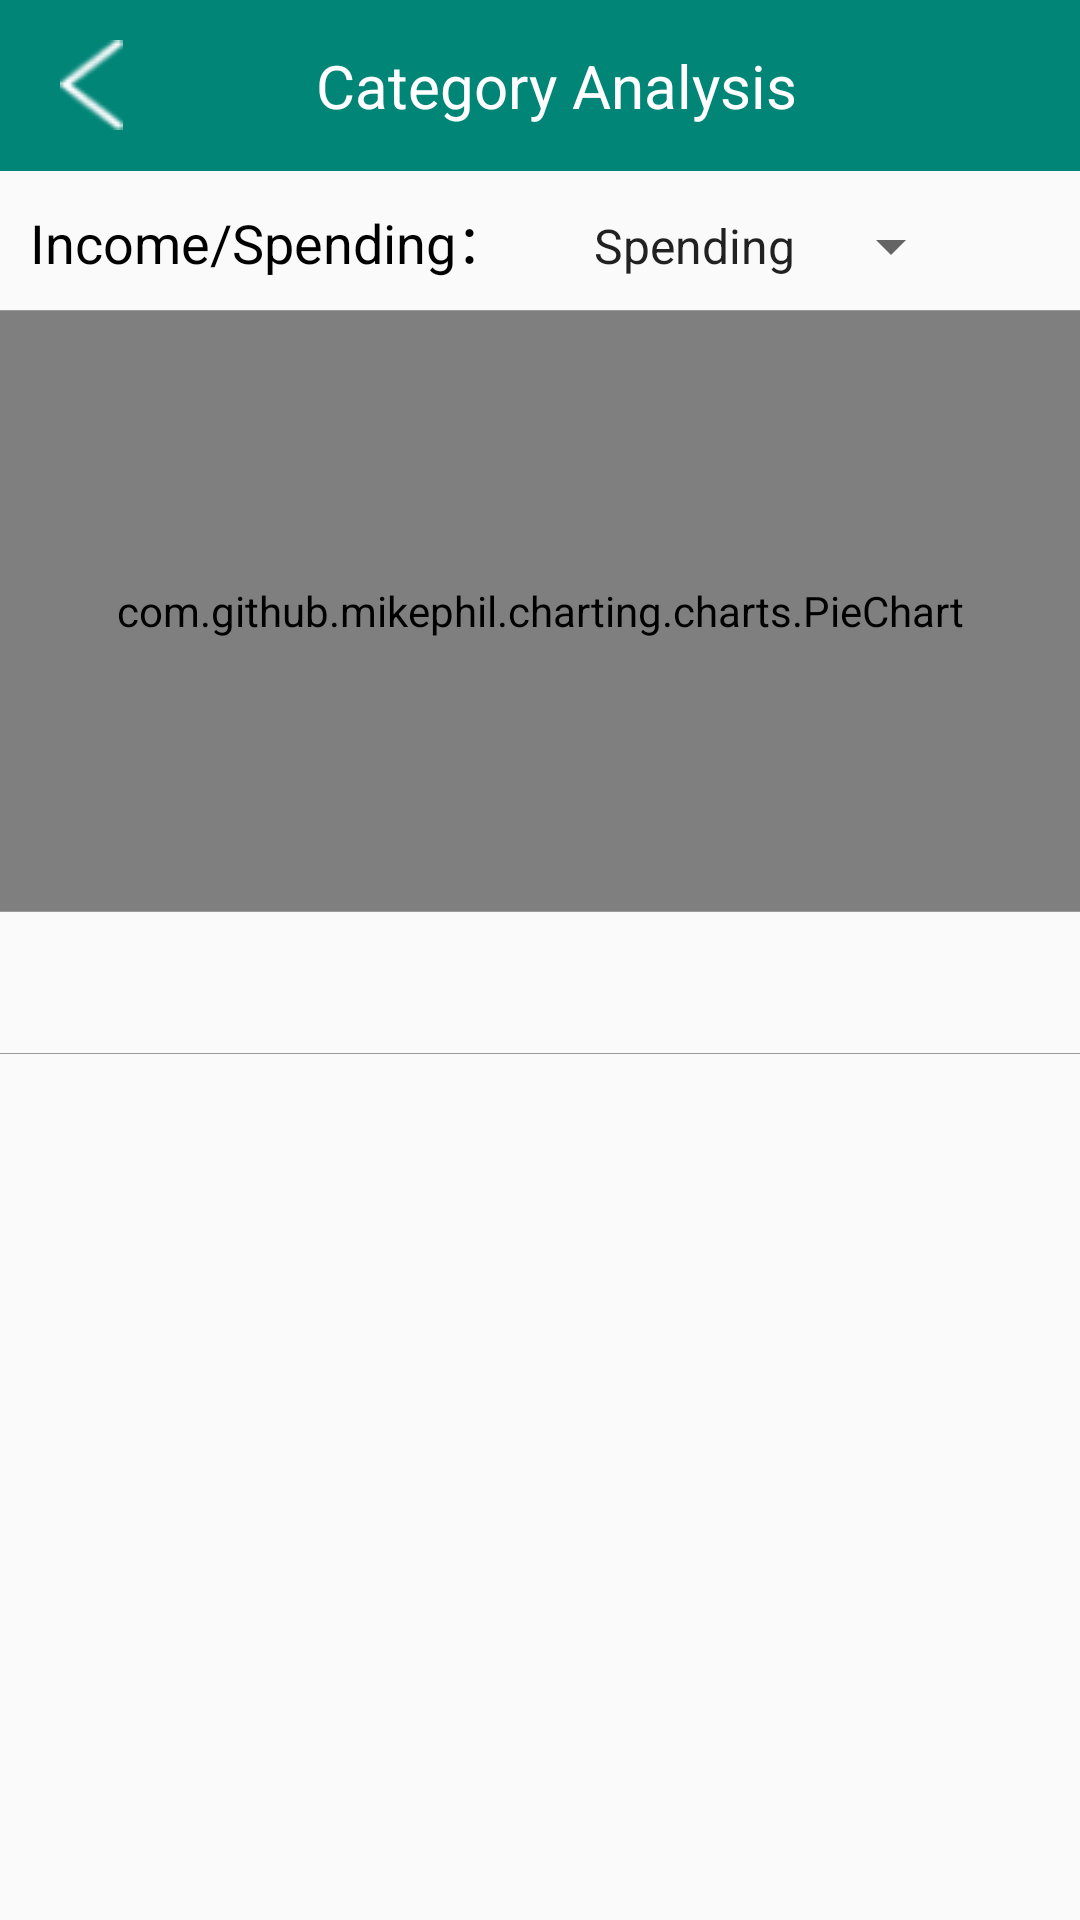

Screen size 1080w x 1920h. Icon name, then its box in pixels as bbox(x1, y1, x2, y2):
back: bbox(60, 40, 123, 130)
